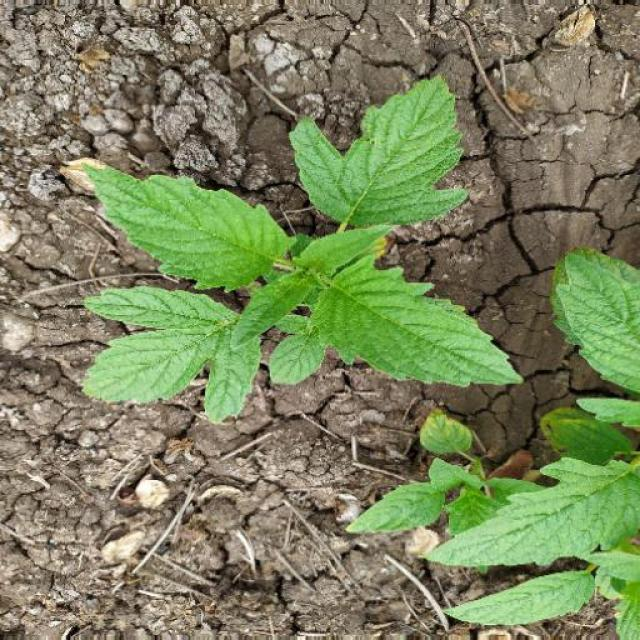crop: (62, 73, 518, 425), (394, 263, 640, 635)
